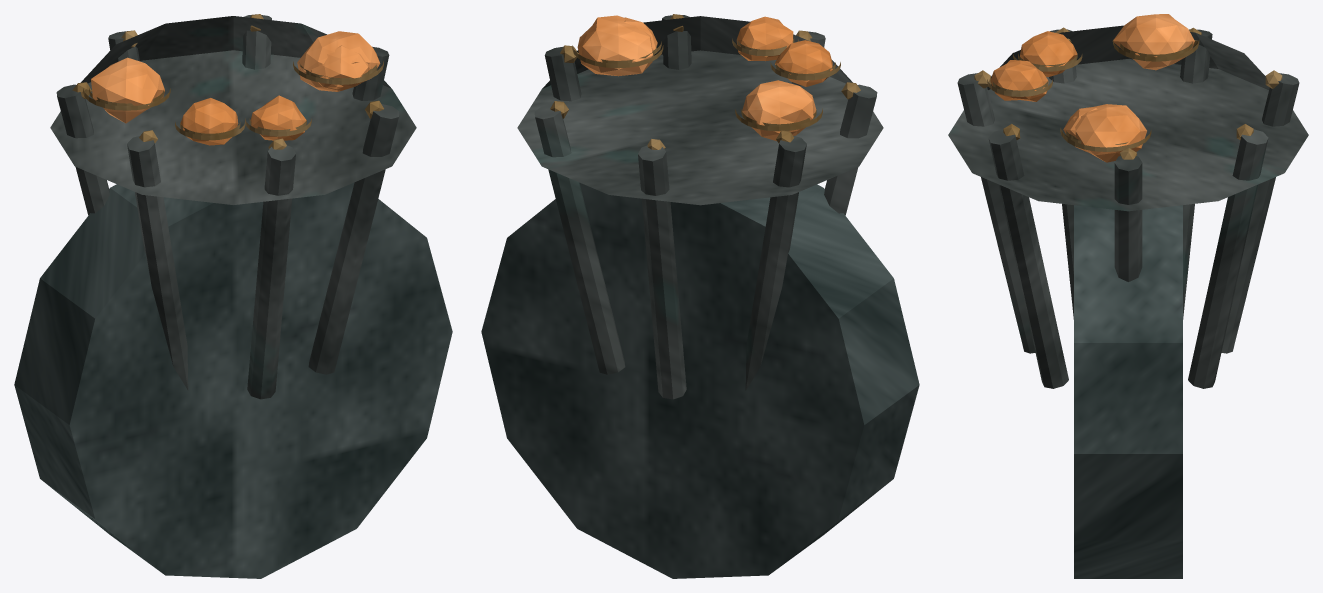
File: 0538_brazier_13.glb
The picture shows the model from 3 angles, left to right: view 1: azimuth 30°, elevation 25°; view 2: azimuth 150°, elevation 25°; view 3: azimuth 270°, elevation 25°; orthographic projection.
Visible parts, largest first — view 1: stone_dark, iron, amber, brass; view 2: stone_dark, iron, amber, brass; view 3: iron, stone_dark, amber, brass.
Part boxes in pixels (x1,y1,x2,y2): stone_dark: (14, 182, 452, 578); iron: (50, 15, 416, 399); amber: (91, 31, 380, 145); brass: (72, 14, 383, 149); stone_dark: (481, 183, 919, 578); iron: (517, 15, 883, 399); amber: (577, 15, 832, 140); brass: (550, 14, 860, 149); iron: (948, 25, 1308, 388); stone_dark: (1074, 205, 1182, 578); amber: (990, 14, 1194, 162); brass: (974, 27, 1282, 159).
Size of the model in its own units: 1.4 by 1.76 by 1.16.
4 materials, 4 textured.
